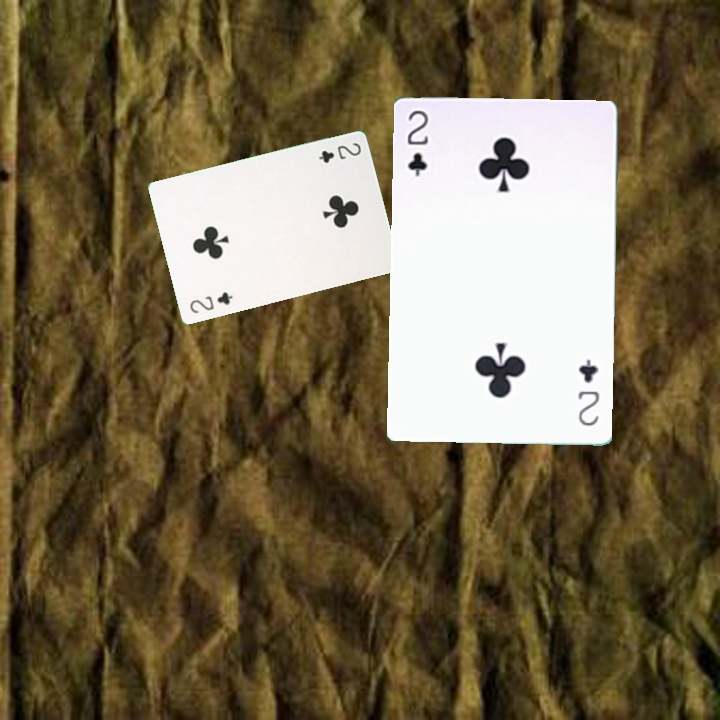2c: (574, 355, 602, 429), (403, 106, 431, 180), (314, 138, 364, 166), (186, 288, 235, 316)
